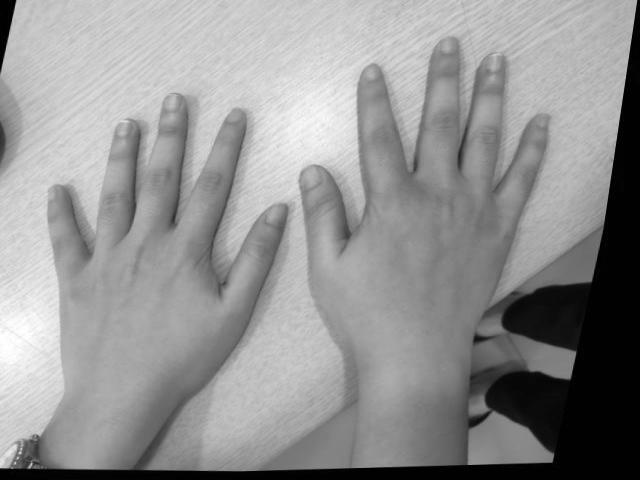not-gloved: (300, 35, 552, 357), (44, 92, 286, 407)
